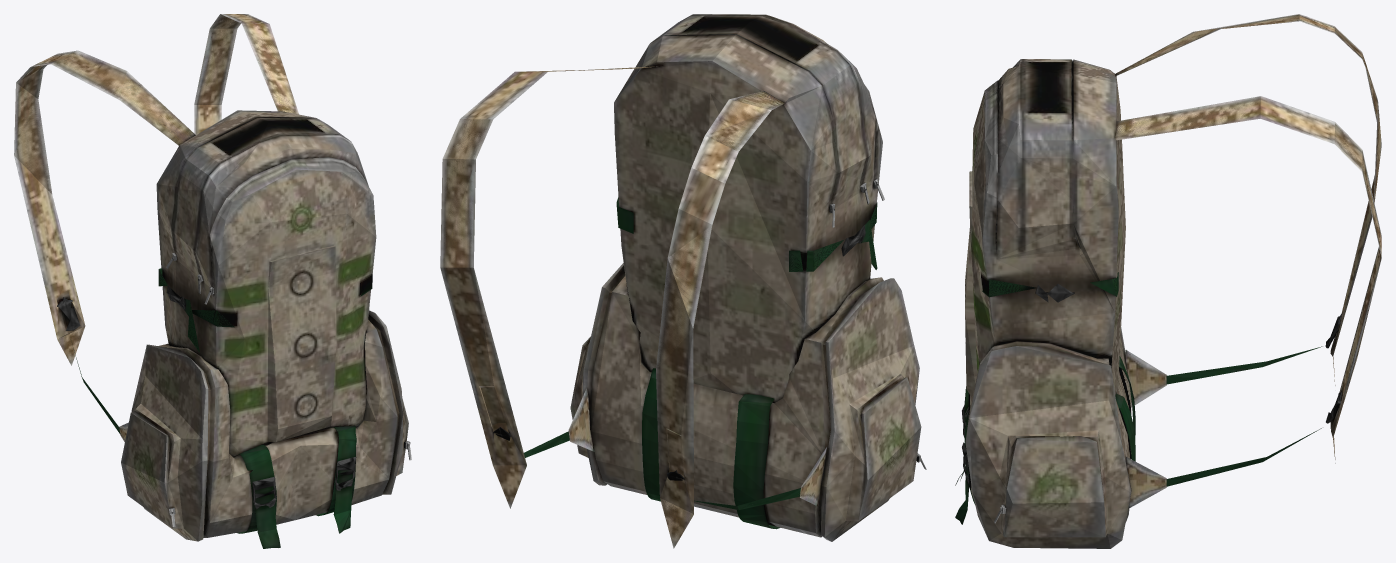
Rendered from bag.glb.
The picture shows the model from 3 angles, left to right: view 1: azimuth 30°, elevation 25°; view 2: azimuth 150°, elevation 25°; view 3: azimuth 270°, elevation 25°; orthographic projection. The views are drawn at different scales.
Visible parts, largest first — view 1: bag; view 2: bag; view 3: bag.
Boxes of the visible parts, x1,y1,x2,y2 form: bag: (14, 14, 411, 548); bag: (440, 14, 926, 548); bag: (955, 14, 1381, 548).
Size of the model in its own units: 0.3219 by 0.4995 by 0.4357.
2 materials, 2 textured.
